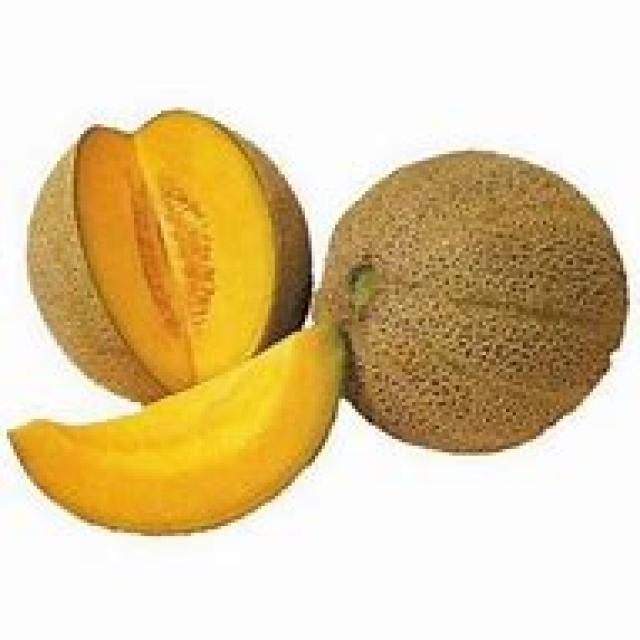cantaloupe: (325, 144, 631, 458), (27, 107, 310, 402), (9, 320, 350, 535)
